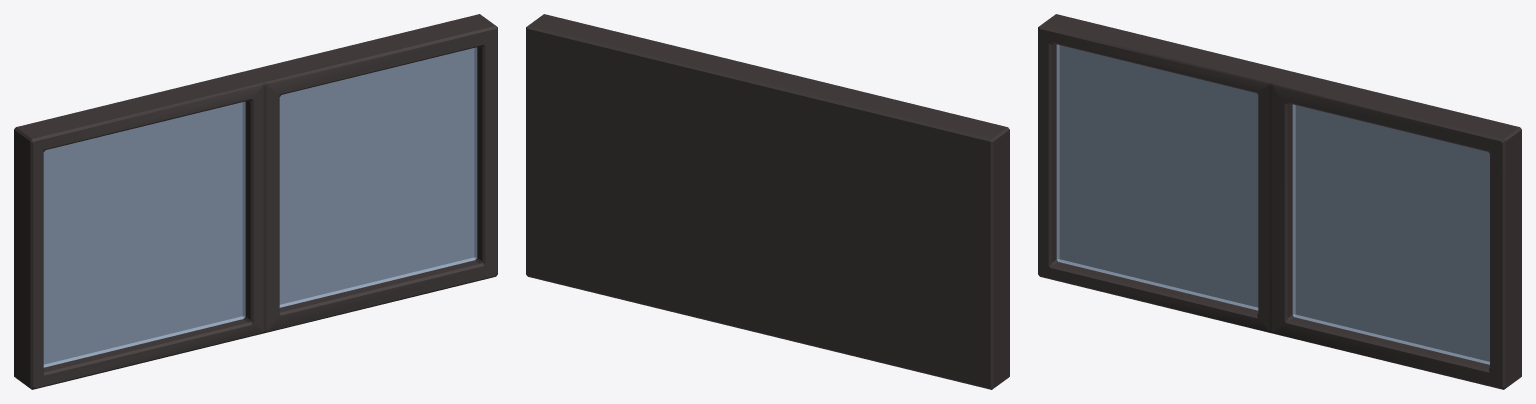
File: window.fbx
3 views of the same model, side by side, from view 1: azimuth 30°, elevation 25°; view 2: azimuth 150°, elevation 25°; view 3: azimuth 330°, elevation 25° (orthographic).
Parts seen in each view (by area): view 1: pCube19; view 2: pCube19; view 3: pCube19.
Boxes of the visible parts, x1,y1,x2,y2 form: pCube19: (14,14,497,389); pCube19: (526,14,1009,389); pCube19: (1038,14,1521,389).
Size of the model in its own units: 7.88 by 4.04 by 0.5349.
